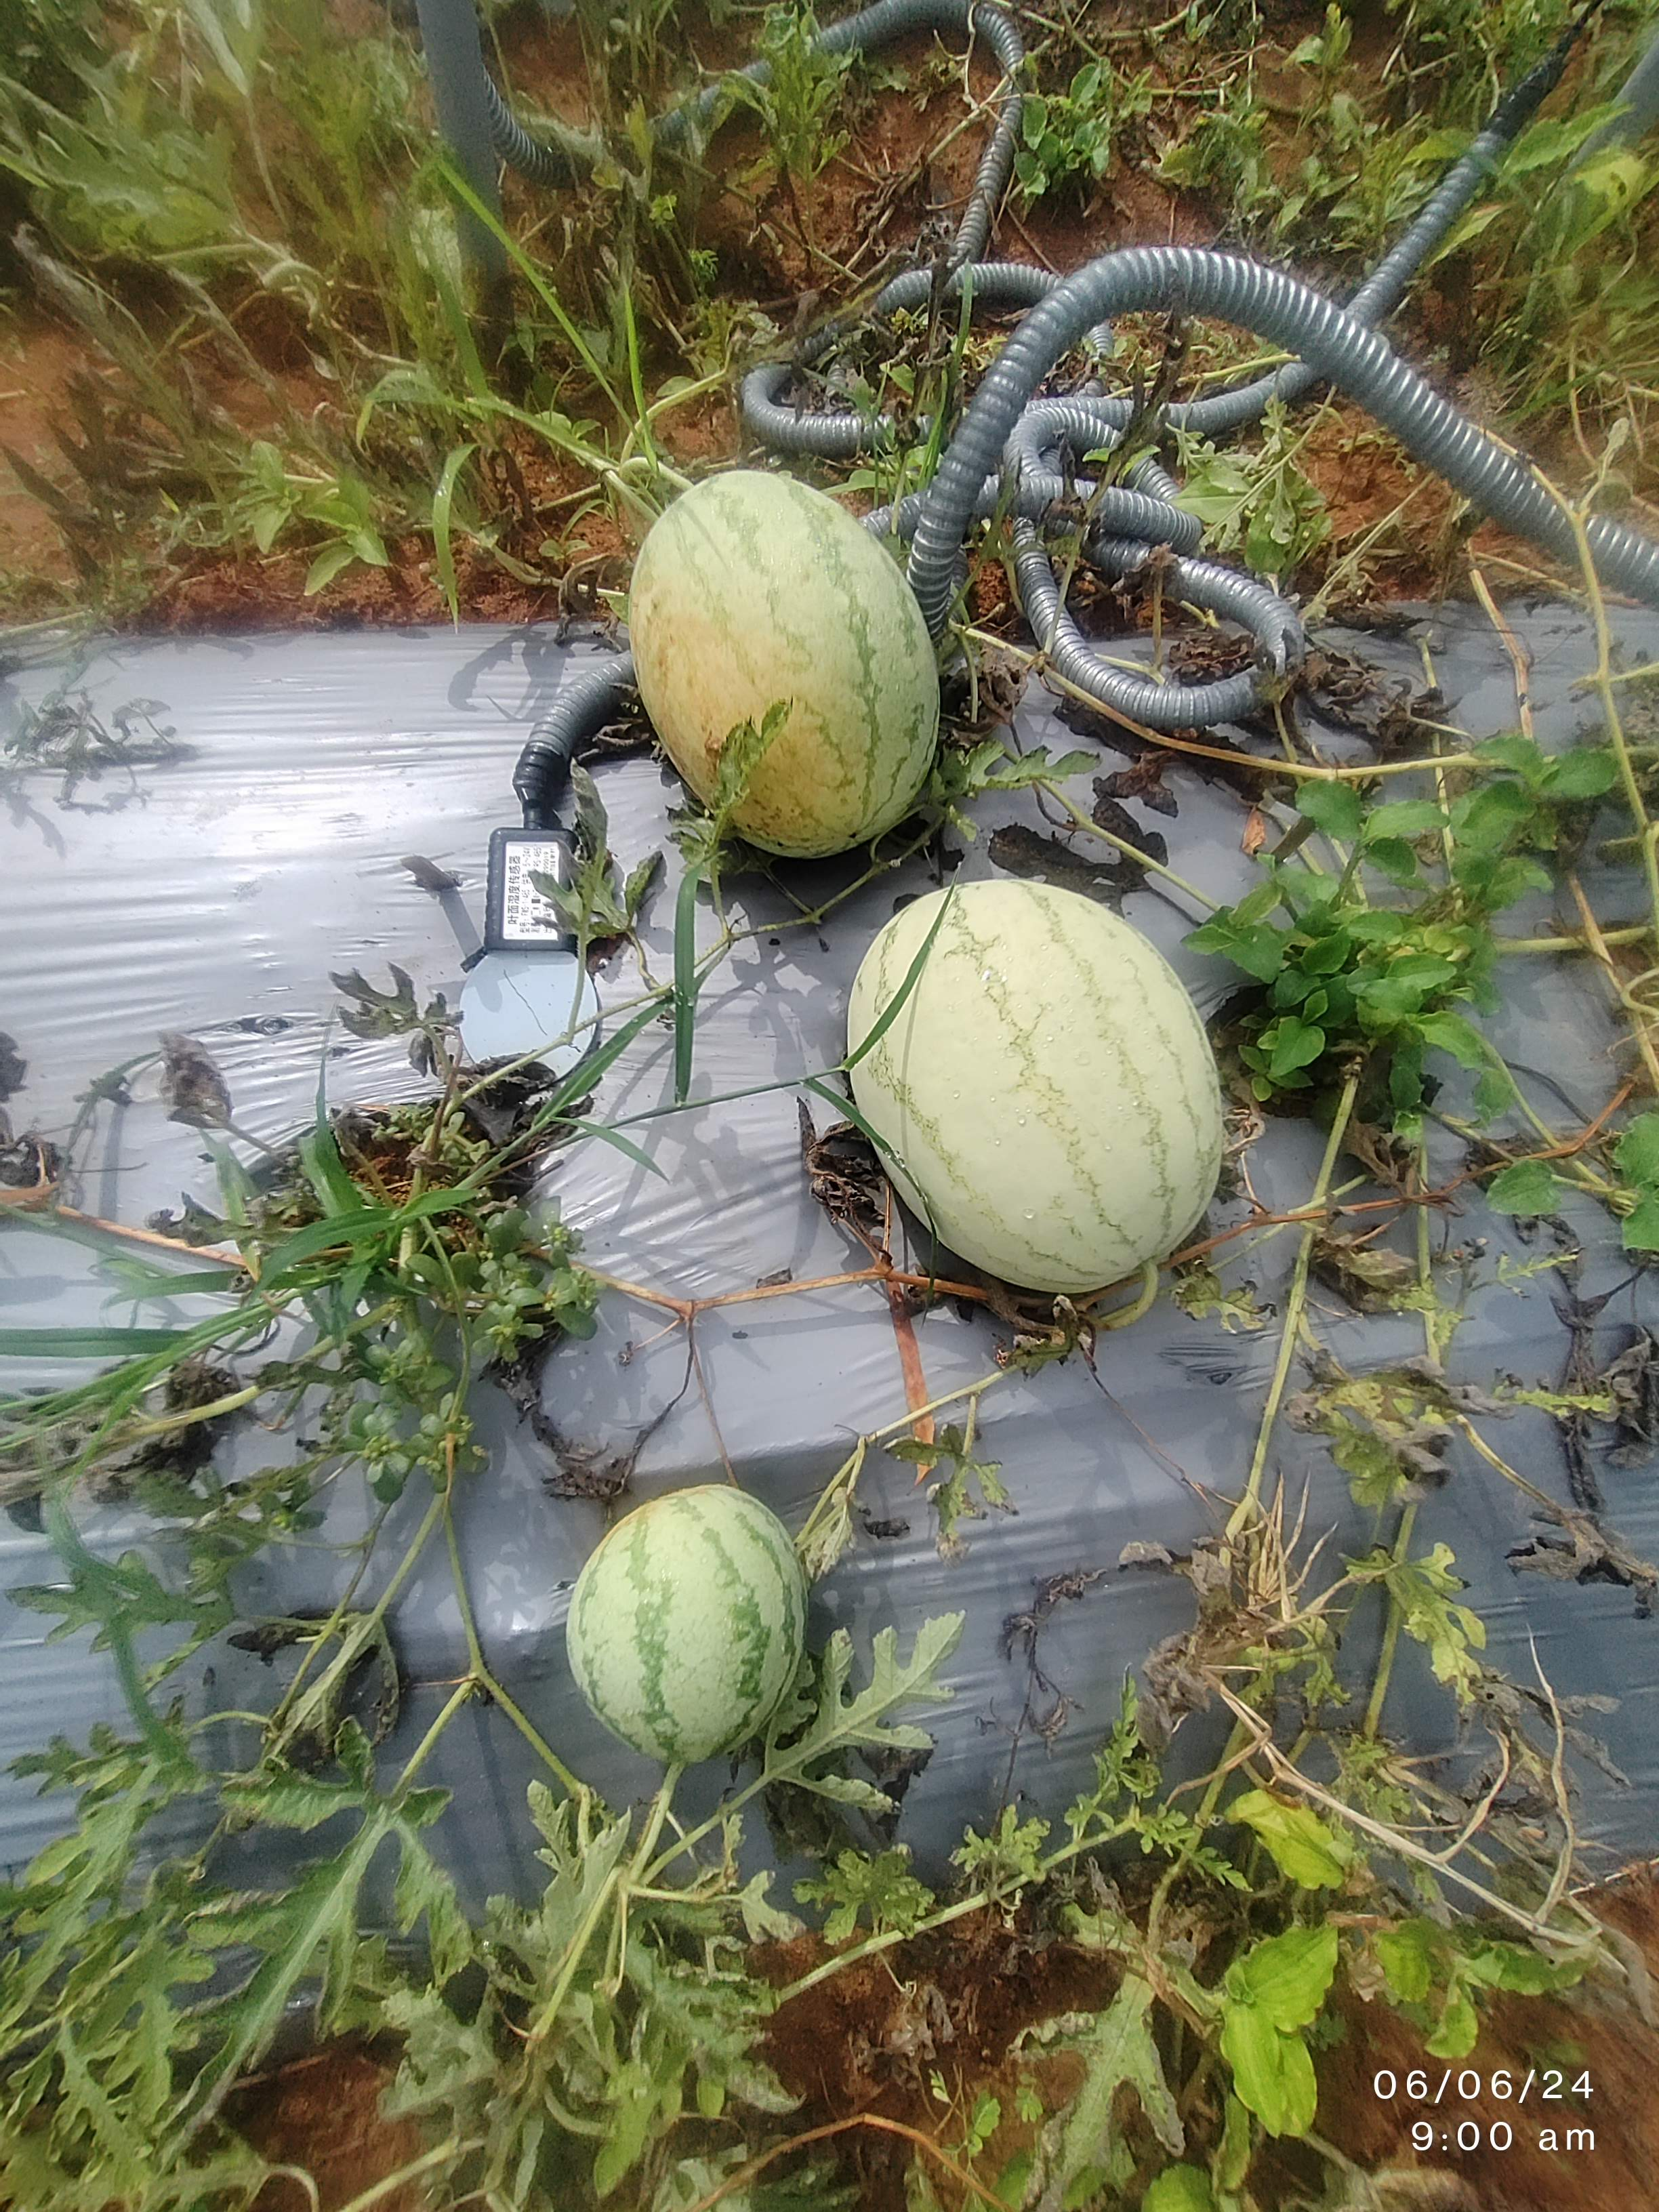good-to-harvest: (819, 871, 1351, 1284)
not-good-to-harvest: (479, 441, 1025, 857), (538, 1439, 899, 1792)
